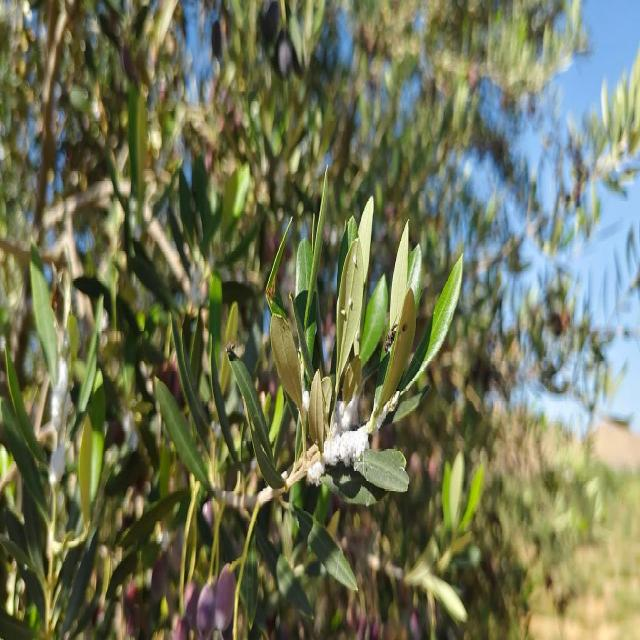Psyllid: (308, 394, 370, 483), (336, 237, 364, 374), (366, 380, 405, 433), (298, 374, 310, 424)
